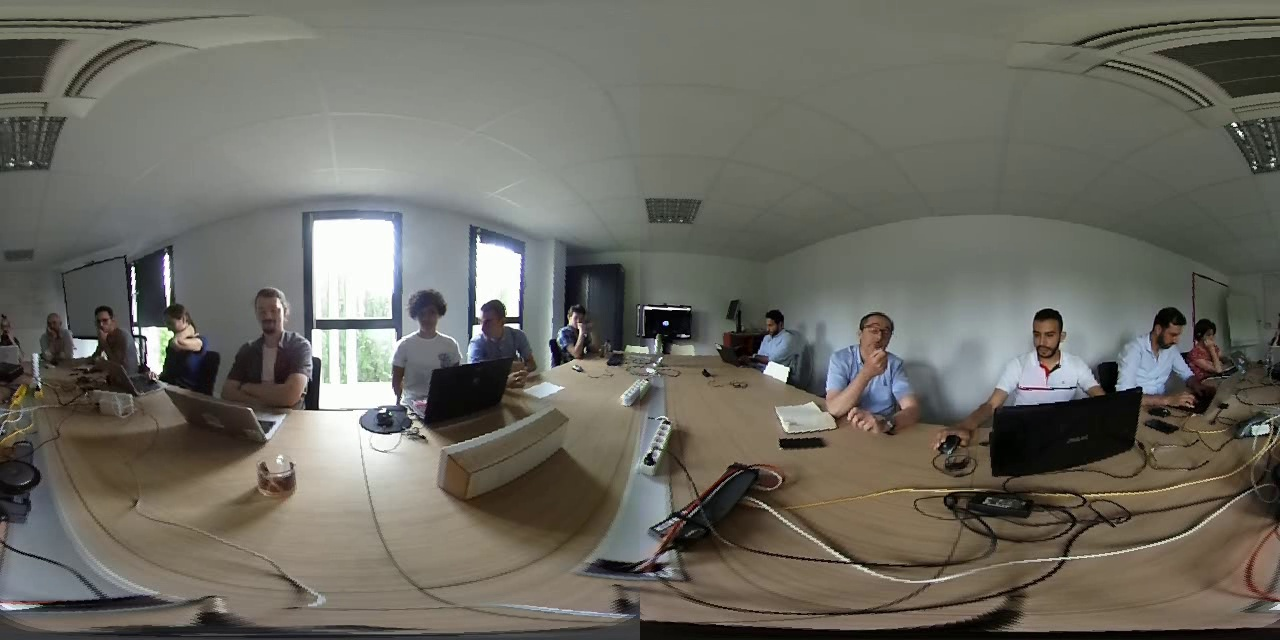person: (817, 300, 922, 430), (231, 280, 319, 405), (995, 296, 1092, 407), (1107, 293, 1184, 407), (388, 280, 456, 372), (157, 293, 221, 388), (462, 277, 532, 363), (1185, 300, 1239, 375), (743, 305, 807, 368), (82, 299, 137, 370), (557, 294, 605, 360), (32, 301, 77, 357), (2, 311, 24, 352)
